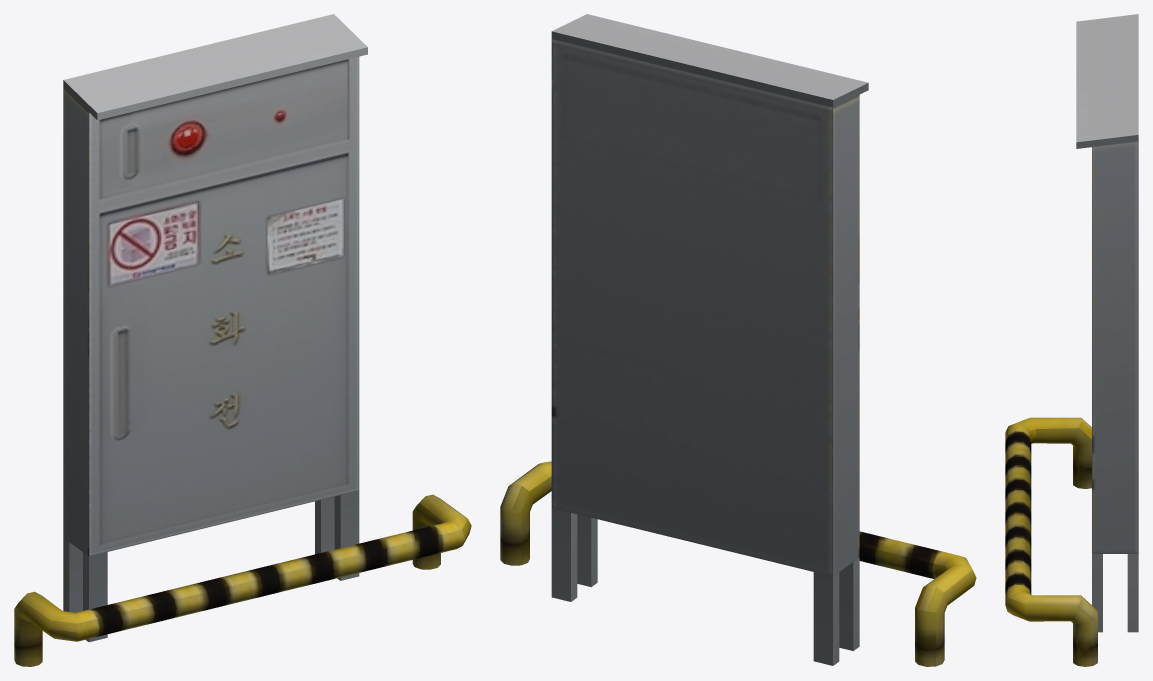
The model's file is fireplugOutdoor02.gltf.
3 views of the same model, side by side, from view 1: azimuth 30°, elevation 25°; view 2: azimuth 150°, elevation 25°; view 3: azimuth 270°, elevation 25° (orthographic). The views are drawn at different scales.
Parts seen in each view (by area): view 1: firePlug002; view 2: firePlug002; view 3: firePlug002.
Part boxes in pixels (bbox=[...]): firePlug002: bbox=[14, 14, 471, 666]; firePlug002: bbox=[500, 14, 976, 666]; firePlug002: bbox=[1005, 14, 1138, 666].
Bounding box in the file's own units: 11.95 × 14.7 × 3.56.
Materials: 1 (1 with a texture image).
